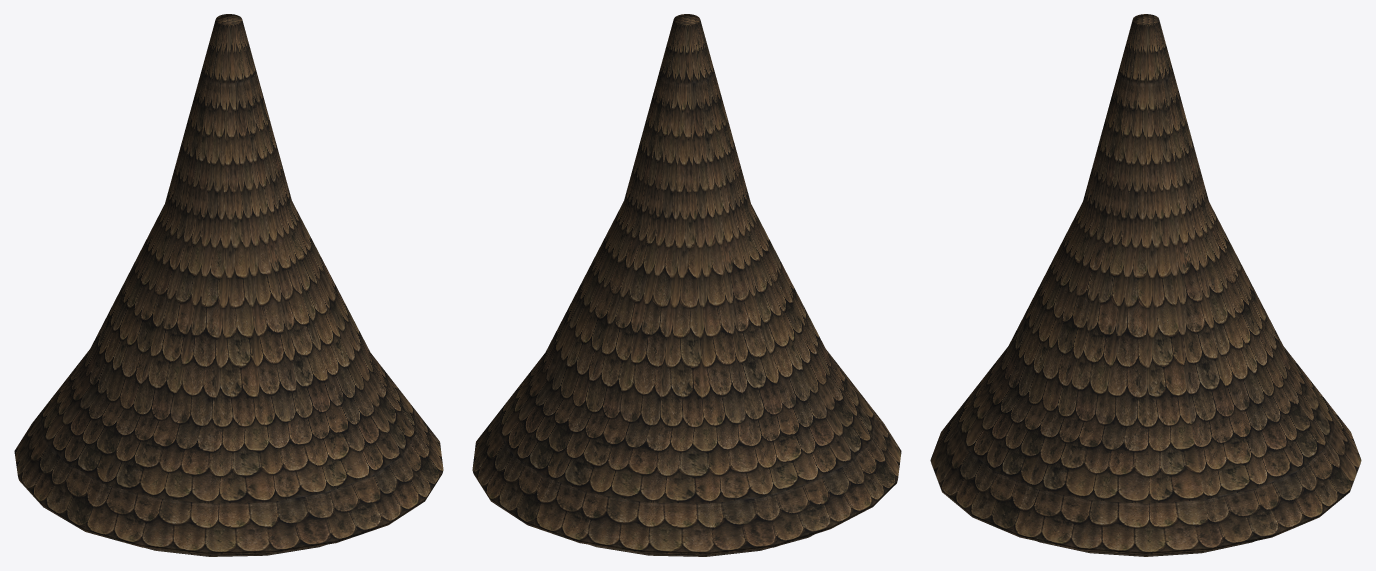
Rendered from Roof_Round_03b.fbx.
3 renders of one model, left to right at view 1: azimuth 30°, elevation 25°; view 2: azimuth 150°, elevation 25°; view 3: azimuth 270°, elevation 25°, orthographic.
Visible parts, largest first — view 1: Roof_Round_03b; view 2: Roof_Round_03b; view 3: Roof_Round_03b.
Part boxes in pixels (x1,y1,x2,y2): Roof_Round_03b: [14, 14, 443, 556]; Roof_Round_03b: [472, 14, 901, 556]; Roof_Round_03b: [930, 14, 1361, 556].
Bounding box in the file's own units: 8.19 × 9.65 × 8.19.
